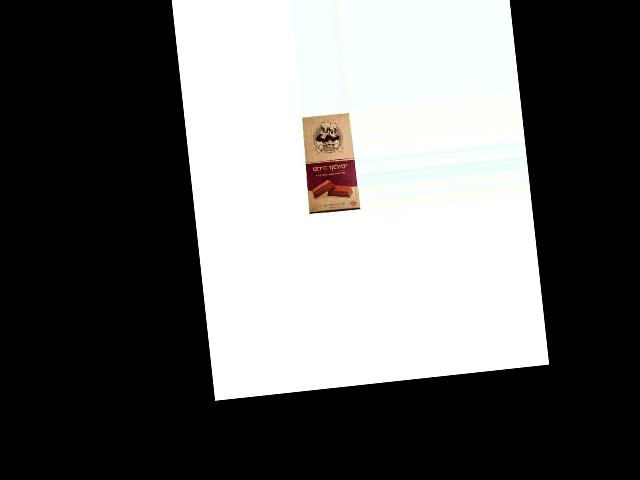chocolate: (297, 112, 358, 214)
